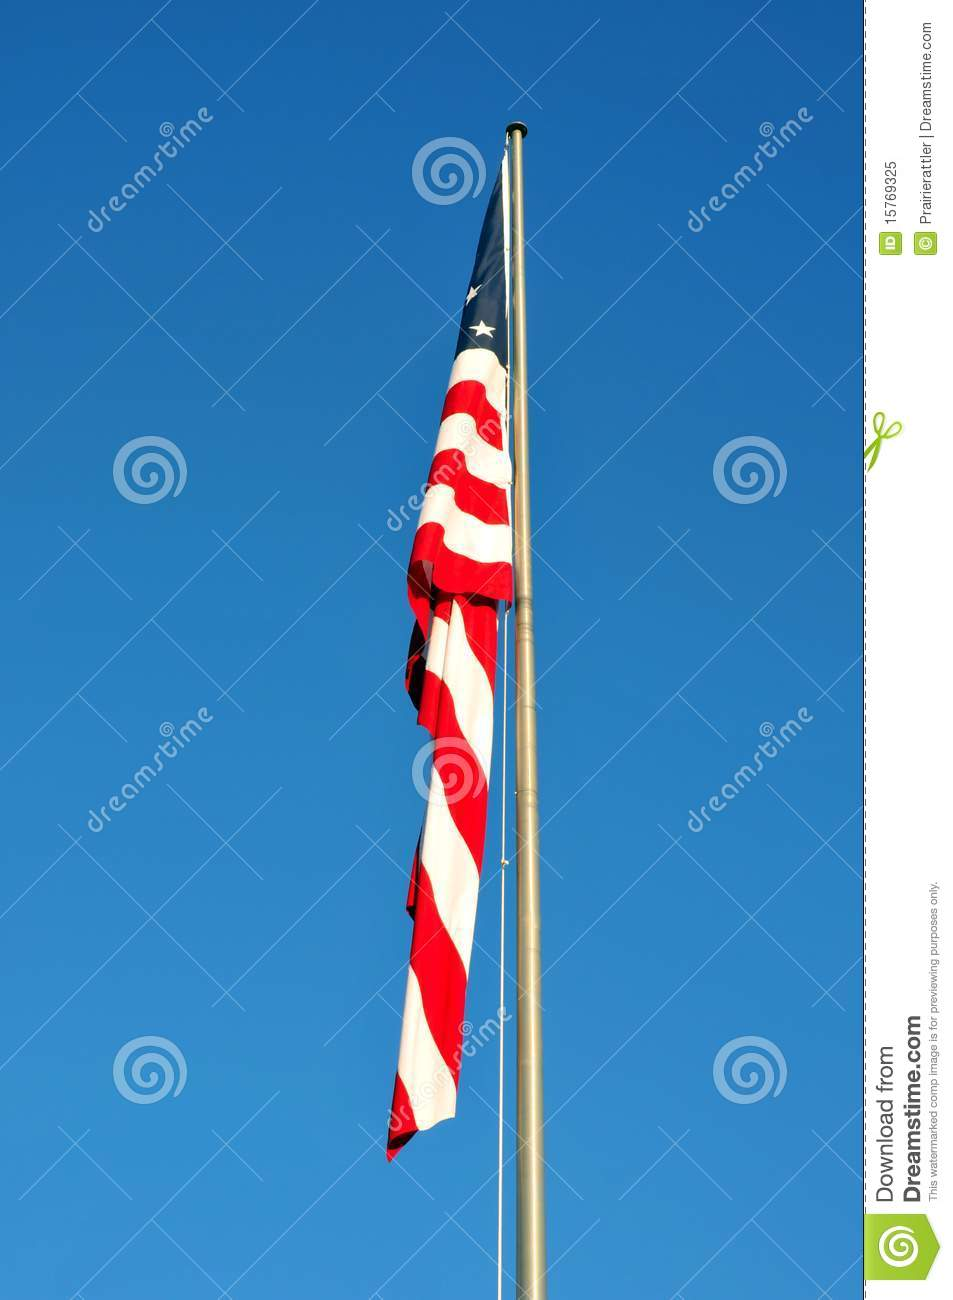Flag: (383, 134, 521, 1159)
